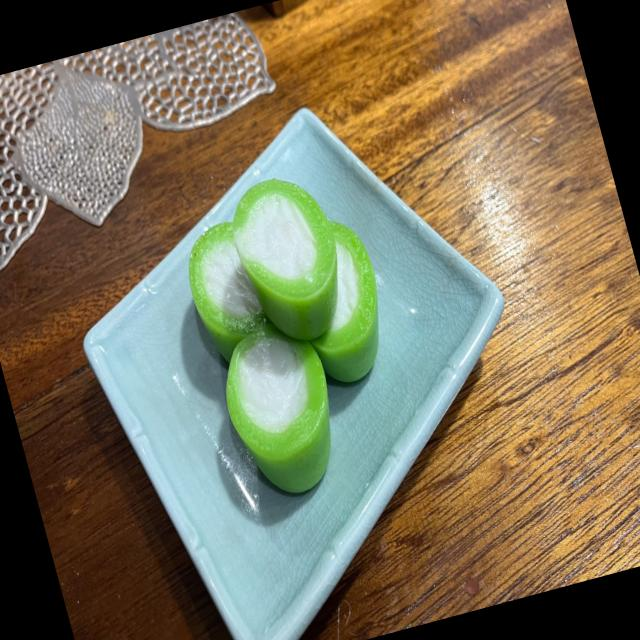nona-manis: (226, 324, 330, 493), (232, 178, 338, 340), (188, 221, 268, 361), (310, 221, 379, 382)
